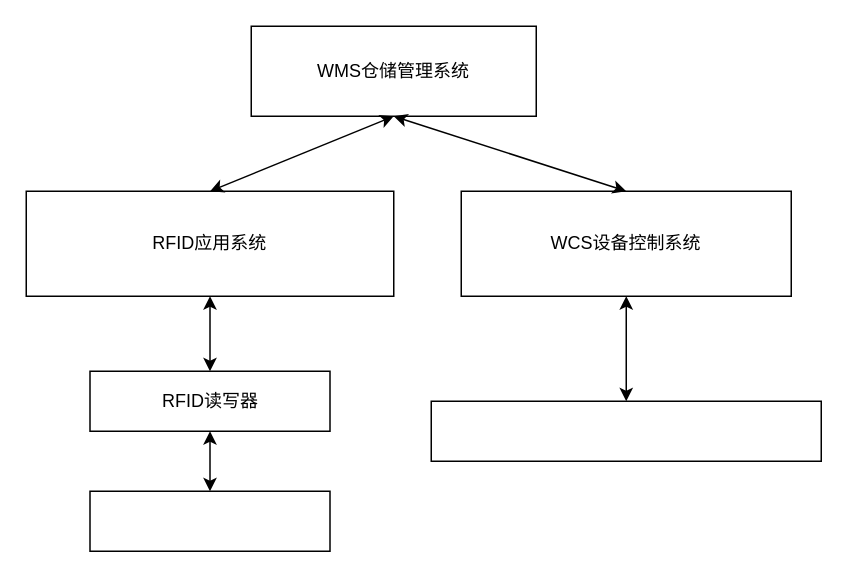
Some shapes in this 848 by 578 pixel diagram are drawn without their labels. The centre of each missing label's shape, as x and y in pixels:
"RFID标签" goes at (x=209, y=520).
"码垛机，堆垛机，AGV无人叉车" goes at (x=625, y=430).
